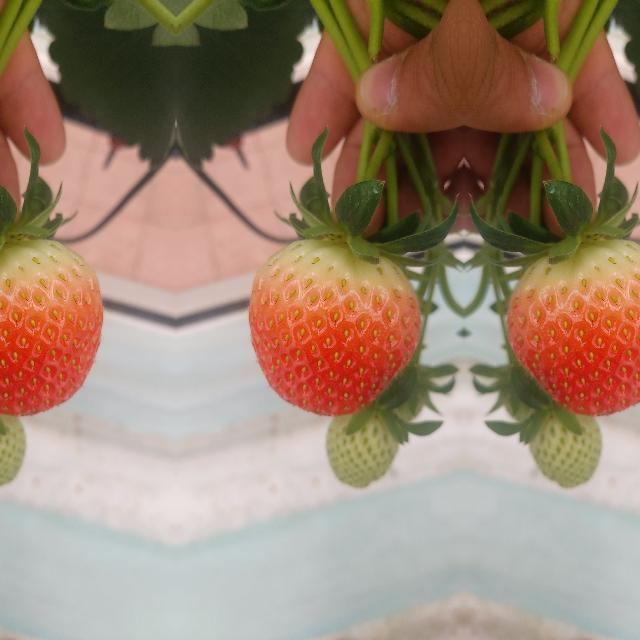Health_25: (316, 402, 420, 493), (506, 402, 610, 493), (0, 402, 34, 493)
Health_75: (247, 239, 419, 415), (507, 239, 640, 415), (0, 239, 103, 415)
